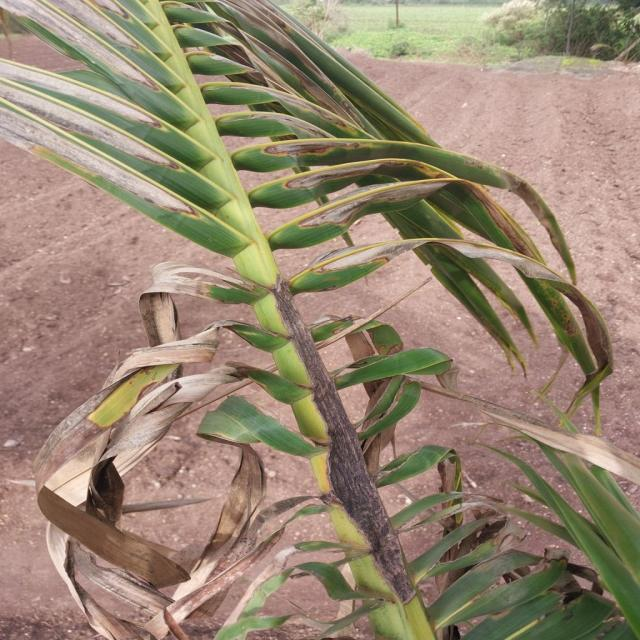leaf rot: (7, 244, 632, 640)
